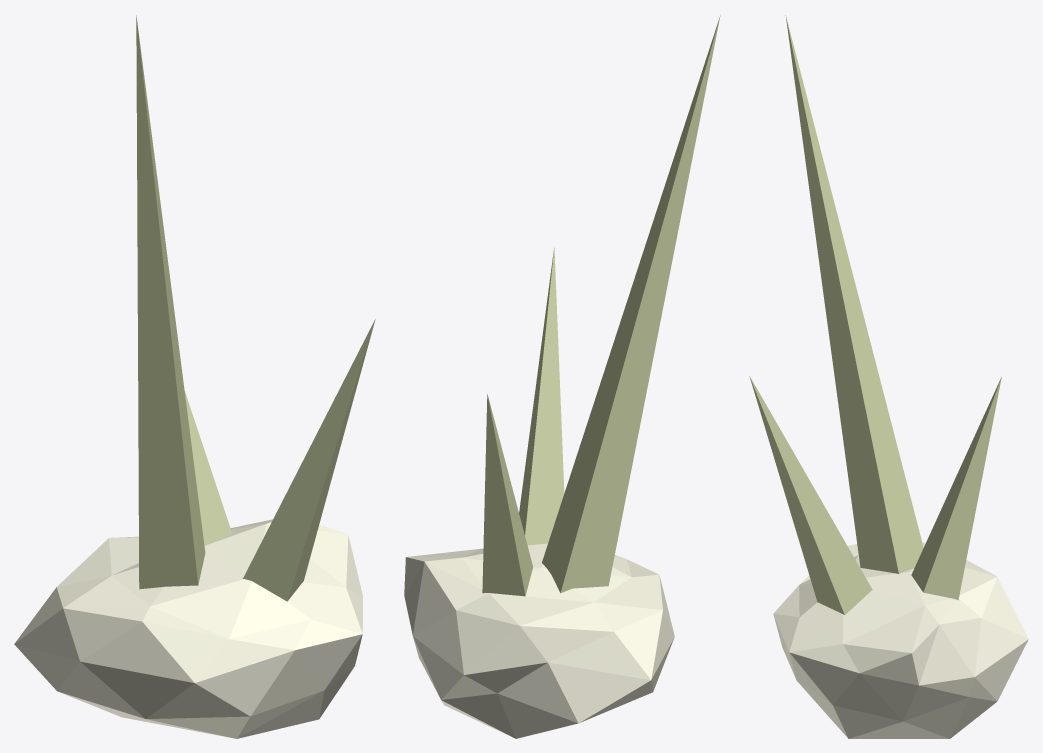
The model's file is spikes_2.fbx.
3 renders of one model, left to right at view 1: azimuth 30°, elevation 25°; view 2: azimuth 150°, elevation 25°; view 3: azimuth 270°, elevation 25°, orthographic. The views are drawn at different scales.
Parts seen in each view (by area): view 1: Icosphere; view 2: Icosphere; view 3: Icosphere.
Part boxes in pixels (bbox=[...]): Icosphere: bbox=[14, 15, 375, 738]; Icosphere: bbox=[404, 15, 720, 738]; Icosphere: bbox=[749, 15, 1028, 738].
Size of the model in its own units: 7.07 by 17.47 by 6.82.
